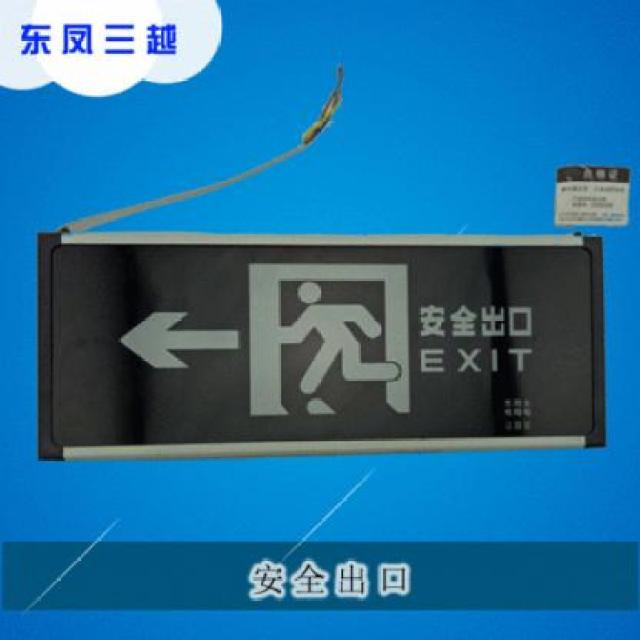exit_sign: (37, 230, 611, 456)
